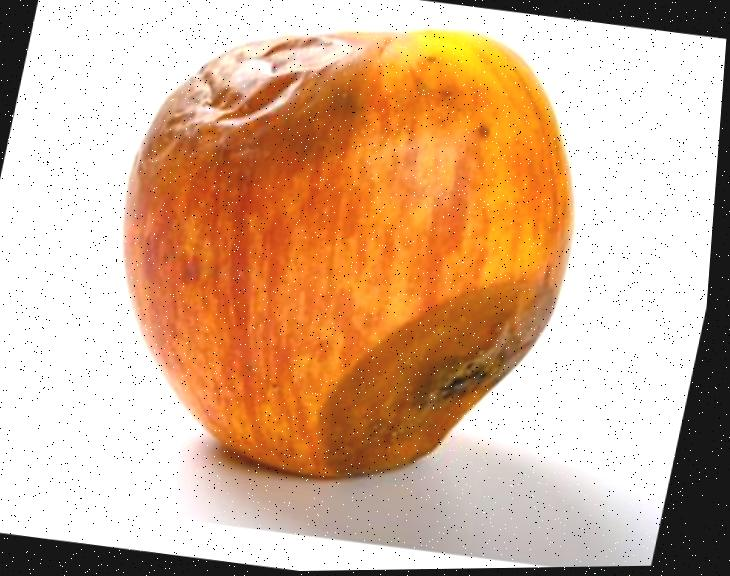ROT: (46, 0, 626, 532)
